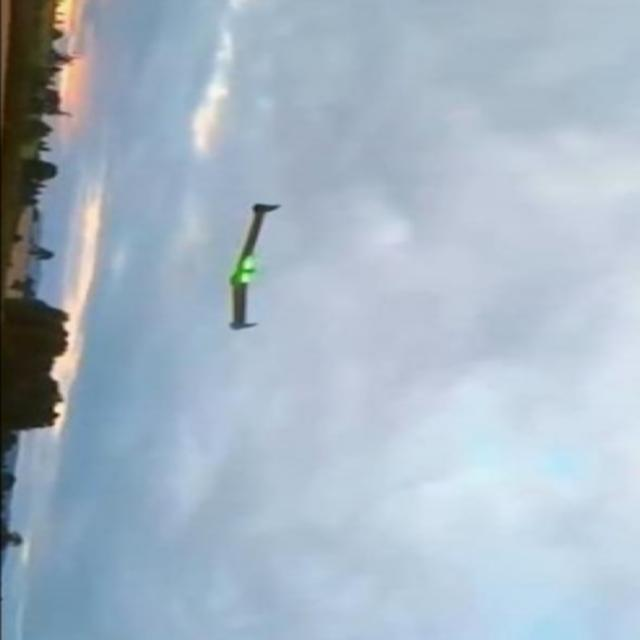plane: (227, 200, 282, 331)
